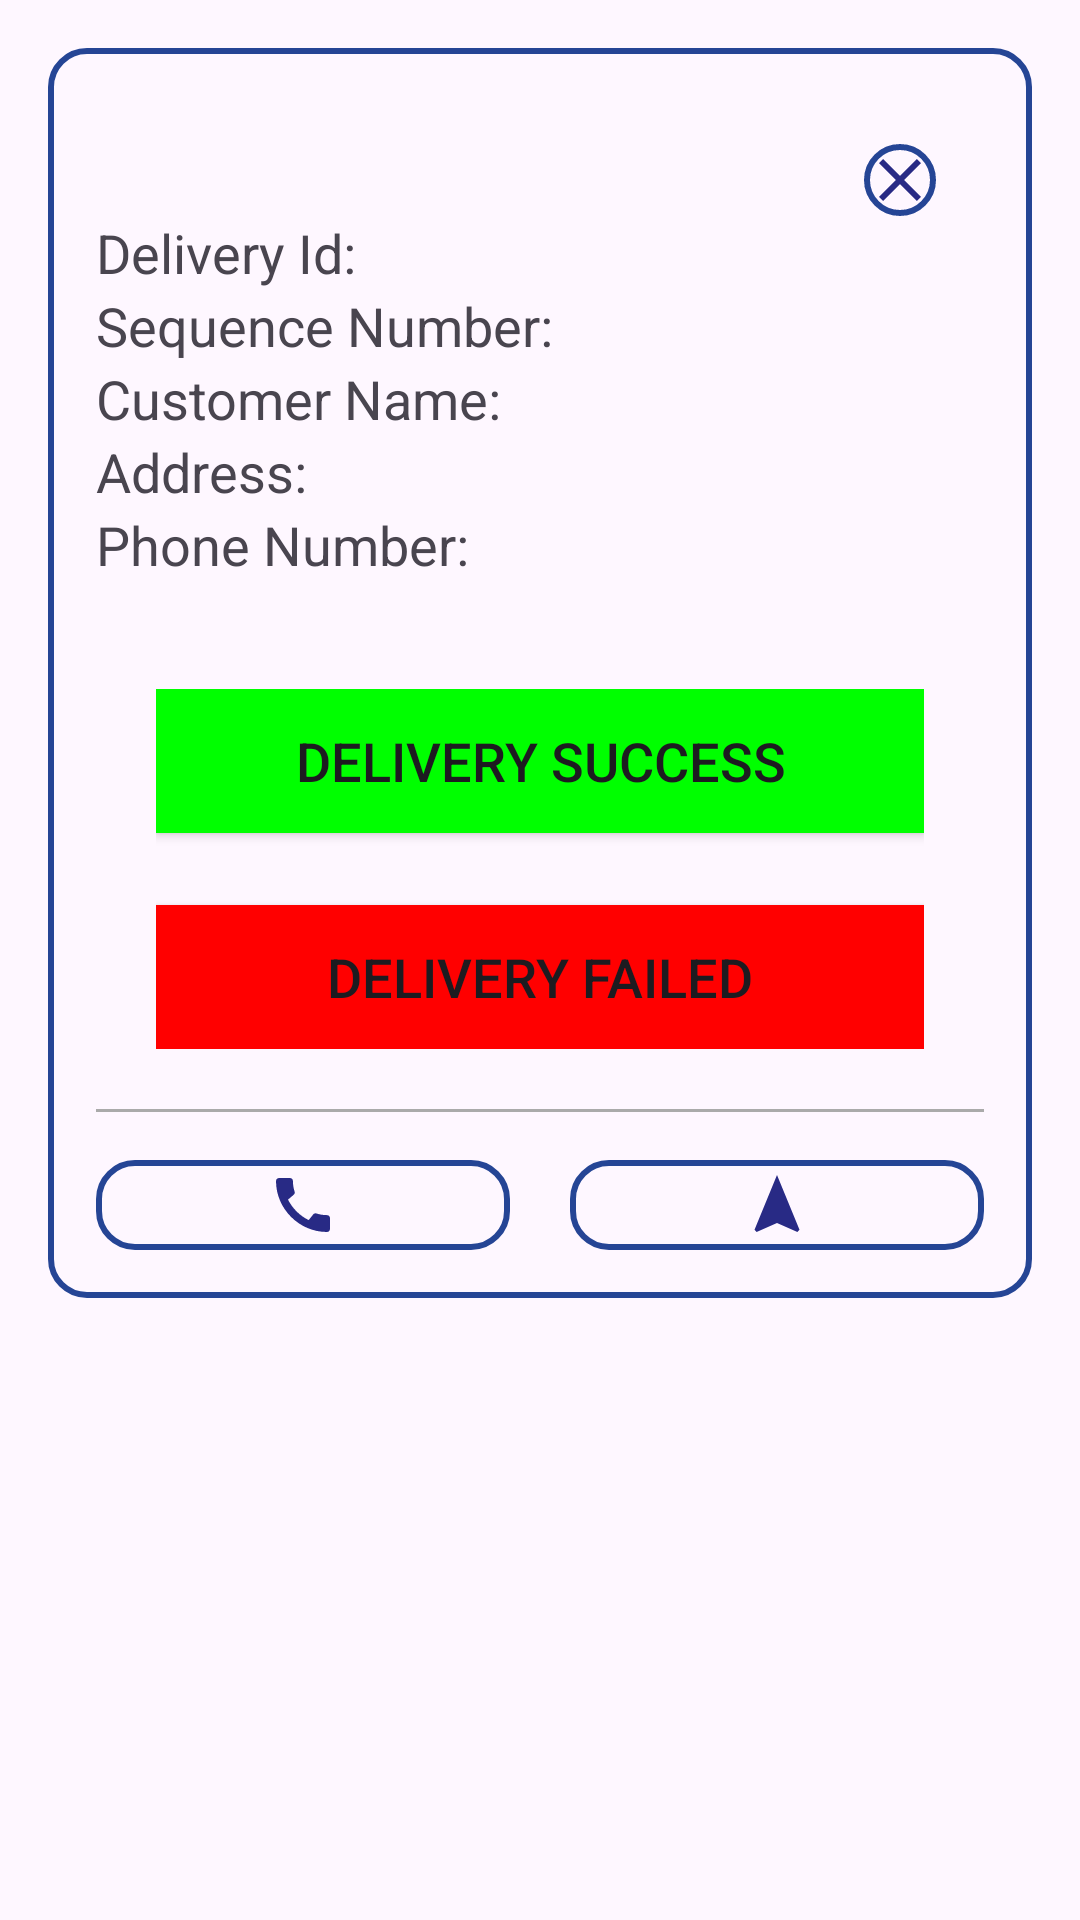

Icon click points for this 1080×1920 phone screenshot, format [x,y]:
Close Button: [900,180]
